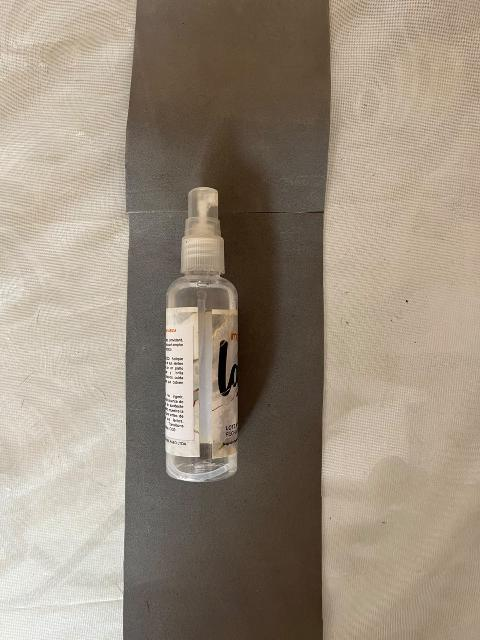PET: (127, 170, 334, 537)
